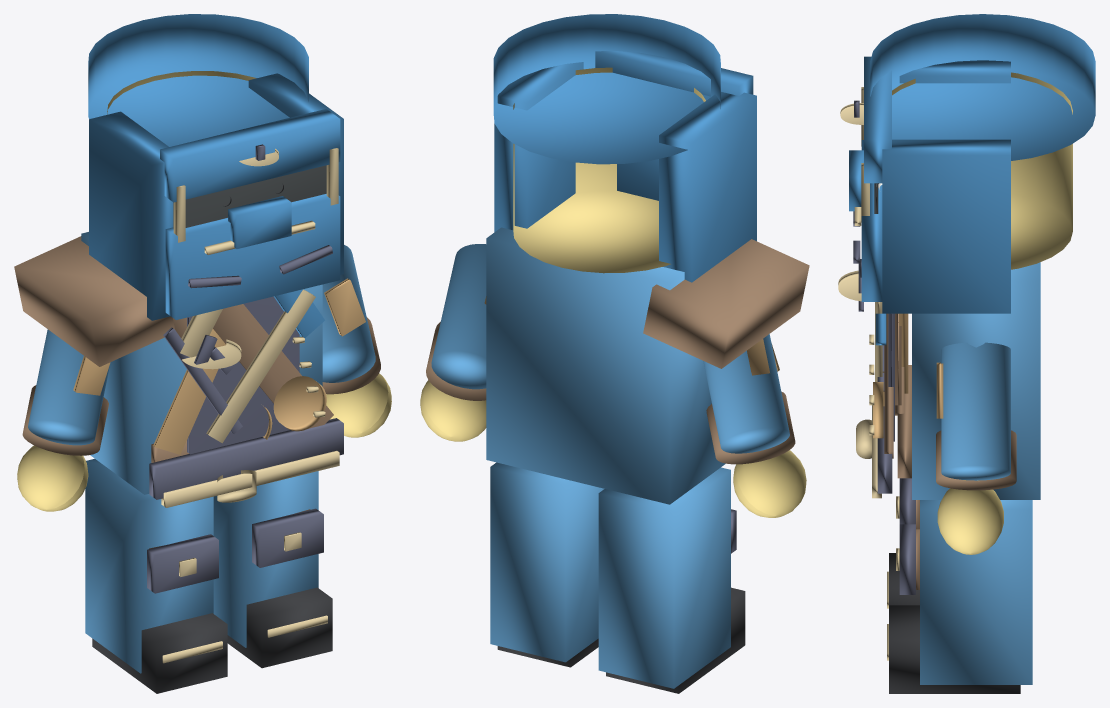
Rendered from jay-tournament.glb.
3 views of the same model, side by side, from view 1: azimuth 30°, elevation 25°; view 2: azimuth 150°, elevation 25°; view 3: azimuth 270°, elevation 25° (orthographic). The views are drawn at different scales.
Visible parts, largest first — view 1: remasterHoodCrown, leftLegBody, remasterHoodLeftFold, remasterMaskLower, jayShoulderWrap, torsoBody, rightLegBody, remasterHoodForehead, remasterWaistWrap, leftBoot, leftArmBody, rightBoot (+26 smaller); view 2: torsoBody, leftLegBody, remasterHoodCrown, rightLegBody, remasterHoodLeftFold, jayShoulderWrap, headCore, remasterHoodRightFold, leftArmBody, rightArmBody, leftHandAuthored, remasterHoodForehead (+7 smaller); view 3: remasterHoodCrown, remasterHoodRightFold, rightLegBody, torsoBody, rightArmBody, headCore, rightBoot, rightHandAuthored, remasterHoodForehead, remasterMaskLower, remasterHoodLeftFold, rightArmGuard (+15 smaller).
Boxes of the visible parts, <box> form: remasterHoodCrown: <box>88,14,308,146</box>; leftLegBody: <box>85,458,213,673</box>; remasterHoodLeftFold: <box>89,111,173,320</box>; remasterMaskLower: <box>165,194,340,319</box>; jayShoulderWrap: <box>14,236,174,366</box>; torsoBody: <box>81,232,322,494</box>; rightLegBody: <box>213,471,318,647</box>; remasterHoodForehead: <box>160,109,340,202</box>; remasterWaistWrap: <box>149,418,343,499</box>; leftBoot: <box>92,613,227,693</box>; leftArmBody: <box>28,328,110,445</box>; rightBoot: <box>227,587,332,668</box>; torsoBody: <box>486,227,725,504</box>; leftLegBody: <box>598,467,730,688</box>; remasterHoodCrown: <box>493,14,720,164</box>; rightLegBody: <box>490,462,604,662</box>; remasterHoodLeftFold: <box>659,92,756,282</box>; jayShoulderWrap: <box>643,239,809,368</box>; headCore: <box>513,67,705,273</box>; remasterHoodRightFold: <box>494,62,583,231</box>; leftArmBody: <box>703,333,789,453</box>; rightArmBody: <box>431,244,486,389</box>; leftHandAuthored: <box>733,450,806,517</box>; remasterHoodForehead: <box>595,51,753,96</box>; remasterHoodCrown: <box>870,14,1095,160</box>; remasterHoodRightFold: <box>882,139,1010,313</box>; rightLegBody: <box>920,500,1032,684</box>; torsoBody: <box>912,262,1040,499</box>; rightArmBody: <box>941,342,1010,480</box>; headCore: <box>892,72,1072,269</box>; rightBoot: <box>889,605,1020,693</box>; rightHandAuthored: <box>937,480,1003,554</box>; remasterHoodForehead: <box>864,56,891,183</box>; remasterMaskLower: <box>861,140,882,301</box>; remasterHoodLeftFold: <box>899,60,1010,83</box>; rightArmGuard: <box>936,430,1016,490</box>.
Size of the model in its own units: 1.61 by 2.42 by 0.959.
